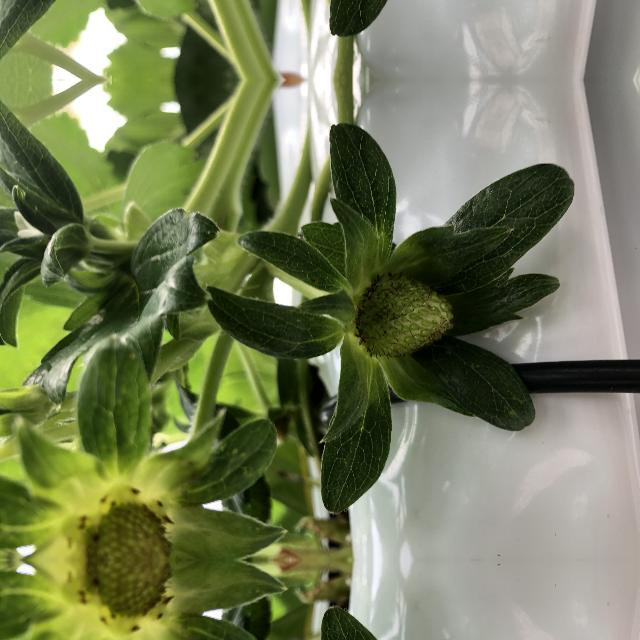Health_25: (355, 262, 457, 354)
